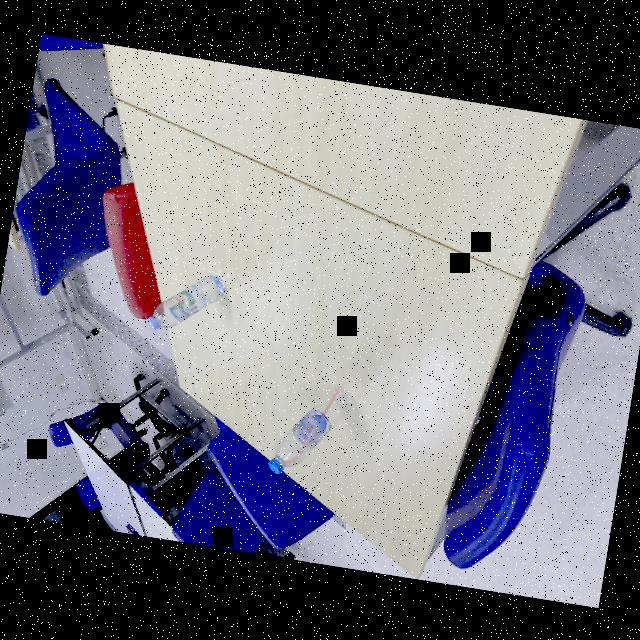plastic_bottle: (267, 374, 357, 484), (143, 263, 231, 341)
plastic_bottle_cap: (266, 456, 284, 474), (144, 314, 162, 332)
